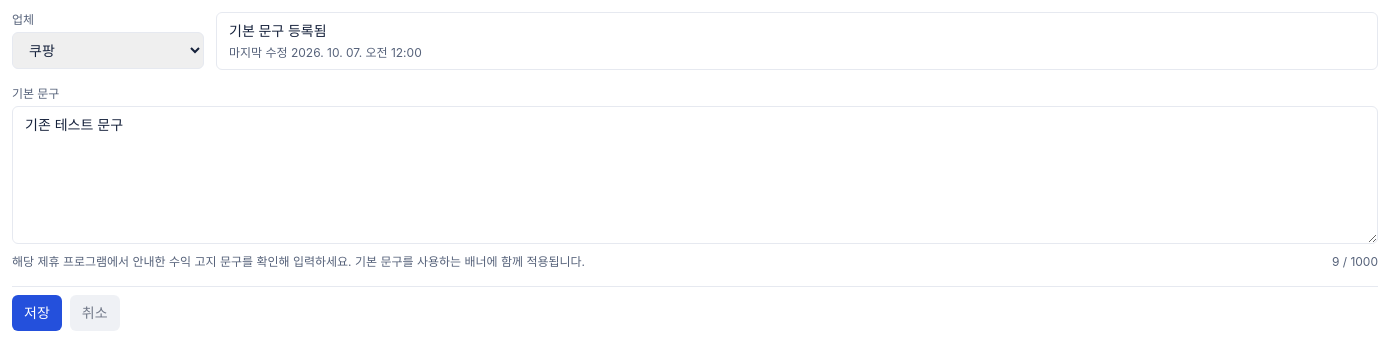
AdminAffiliateDisclosureSettings › restores the selected provider draft from the latest saved props on cancel
This screenshot has width=1390, height=348.
Replace the text in the text box with test id "provider-disclosure-text" with "수정하다 취소" at (695, 175), box [12,106,1378,244]
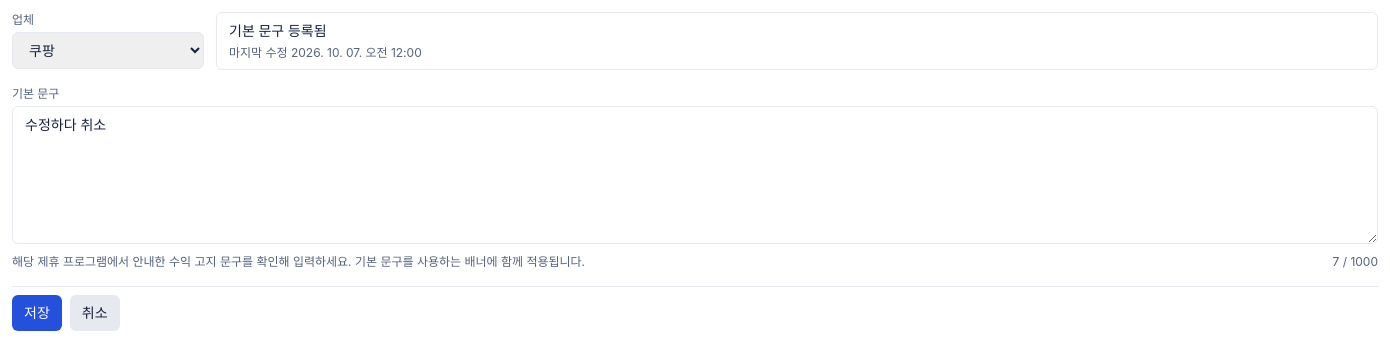
Click the button with test id "provider-disclosure-cancel" at (95, 313), box [70,295,120,331]
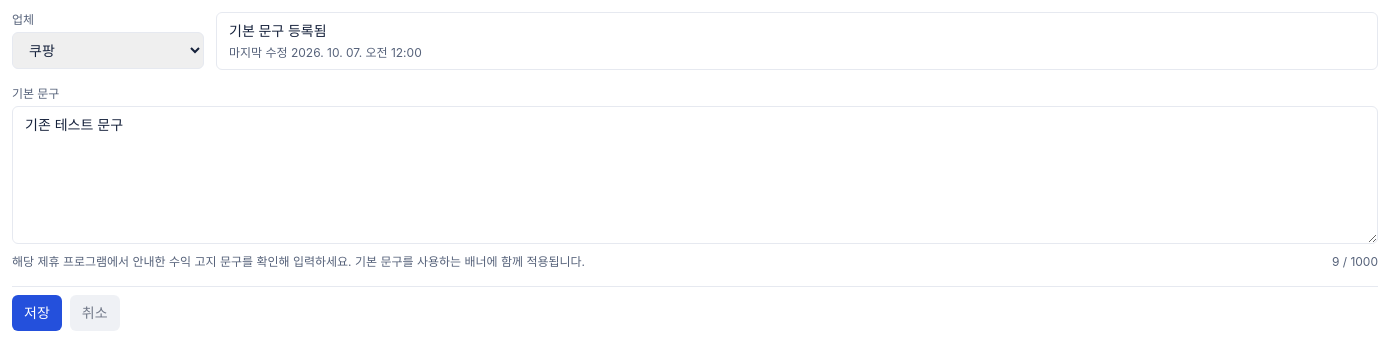
Expected: the text box with test id "provider-disclosure-text" holds "기존 테스트 문구", [12,106,1378,244]
